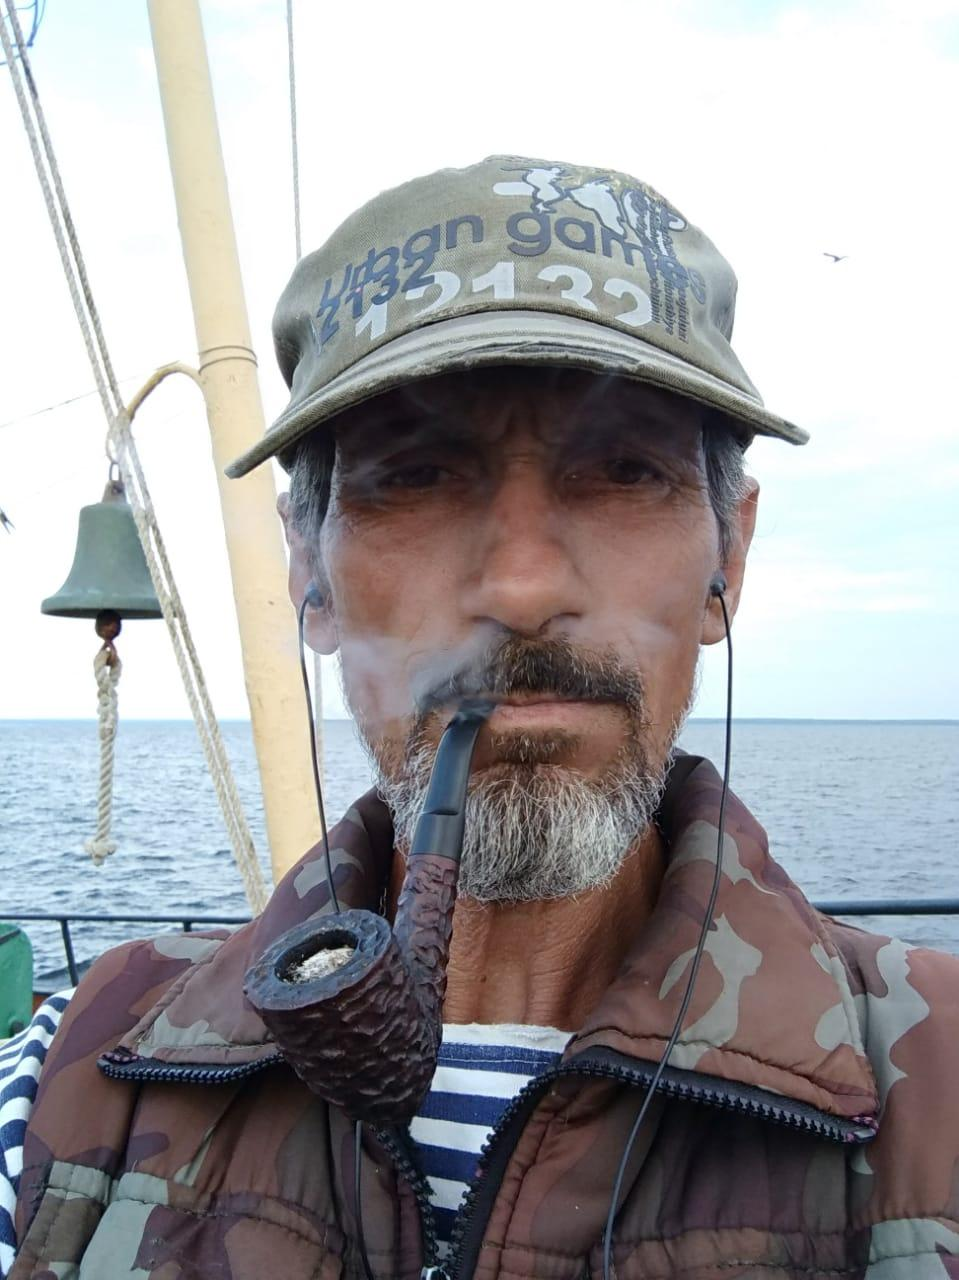trubka: (246, 701, 492, 1127)
